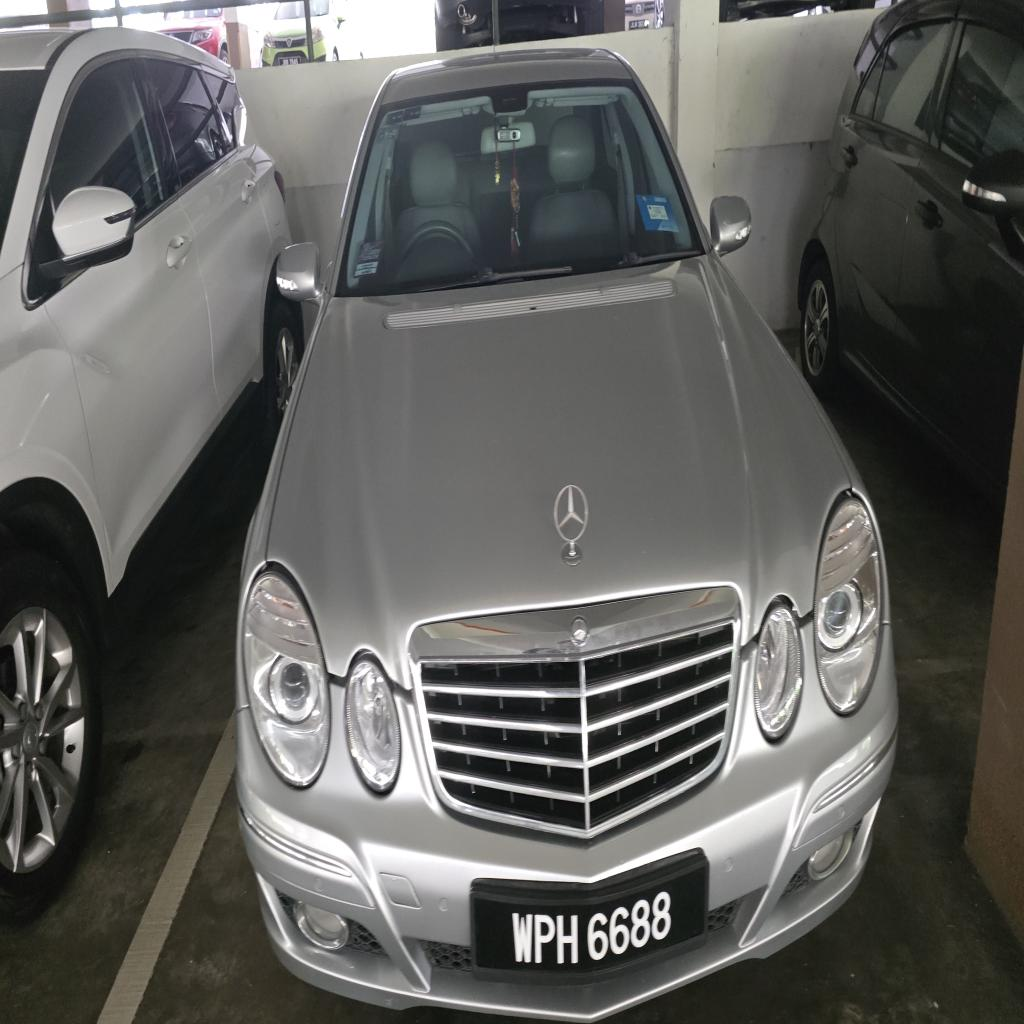car: (237, 51, 897, 1020)
car plate: (471, 851, 707, 977)
